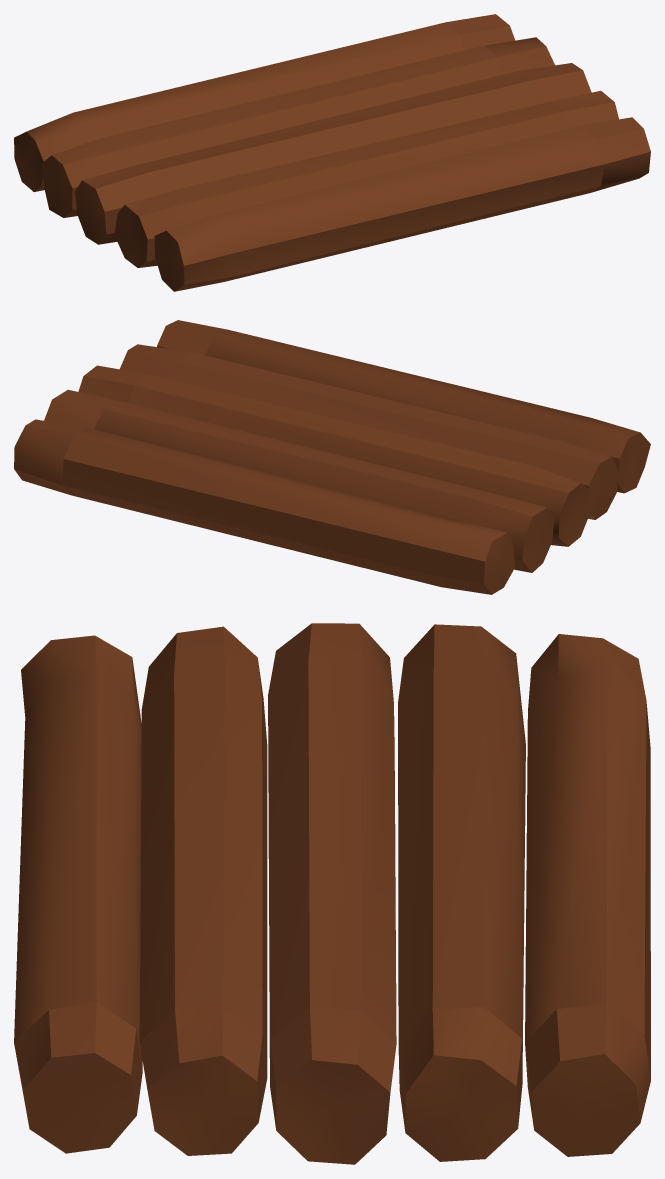
File: LogsRaft.fbx
3 views of the same model, one above another, from view 1: azimuth 30°, elevation 25°; view 2: azimuth 150°, elevation 25°; view 3: azimuth 270°, elevation 25° (orthographic). The views are drawn at different scales.
Visible parts, largest first — view 1: Cloner_2; view 2: Cloner_2; view 3: Cloner_2.
Part boxes in pixels (x1,y1,x2,y2): Cloner_2: (14, 14, 650, 291); Cloner_2: (14, 320, 650, 594); Cloner_2: (14, 623, 650, 1164).
Bounding box in the file's own units: 293 × 38.33 × 180.
